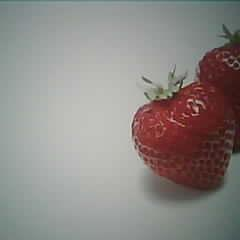straw-ripe: (132, 83, 235, 190)
